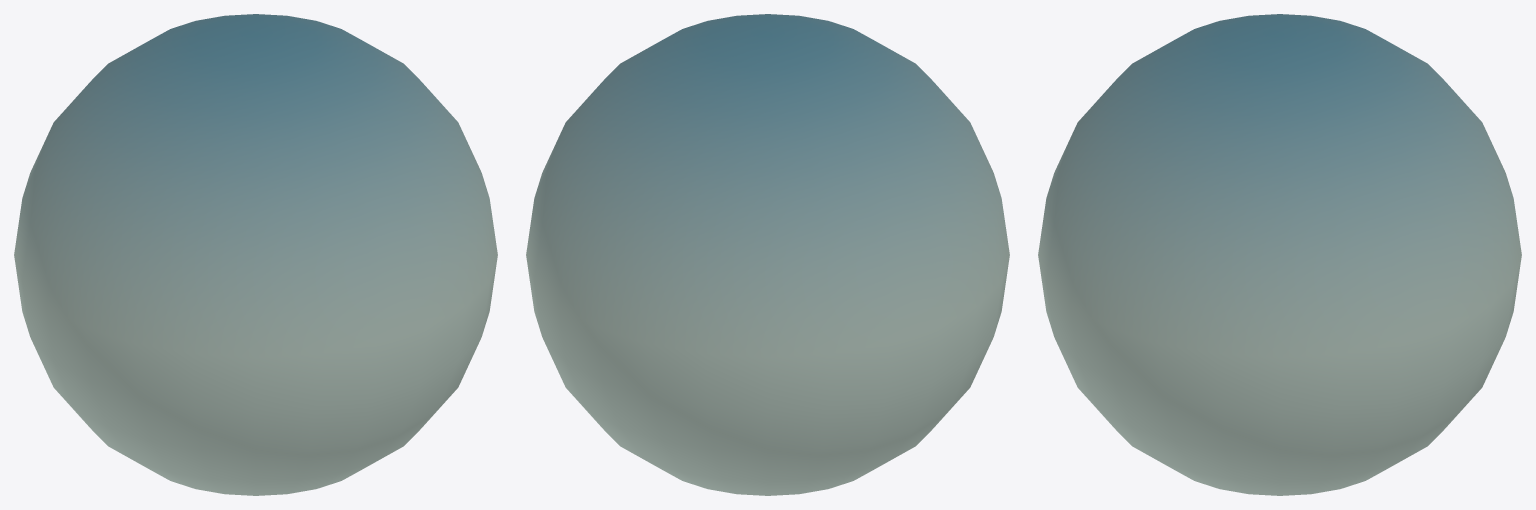
Rendered from portrait-sky.glb.
3 renders of one model, left to right at view 1: azimuth 30°, elevation 25°; view 2: azimuth 150°, elevation 25°; view 3: azimuth 270°, elevation 25°, orthographic.
Parts seen in each view (by area): view 1: portrait-sky-procedural; view 2: portrait-sky-procedural; view 3: portrait-sky-procedural.
Part boxes in pixels (left/top/right/bottom): portrait-sky-procedural: left=14, top=14, right=497, bottom=495; portrait-sky-procedural: left=526, top=14, right=1009, bottom=495; portrait-sky-procedural: left=1038, top=14, right=1521, bottom=495.
Size of the model in its own units: 480 by 480 by 480.
